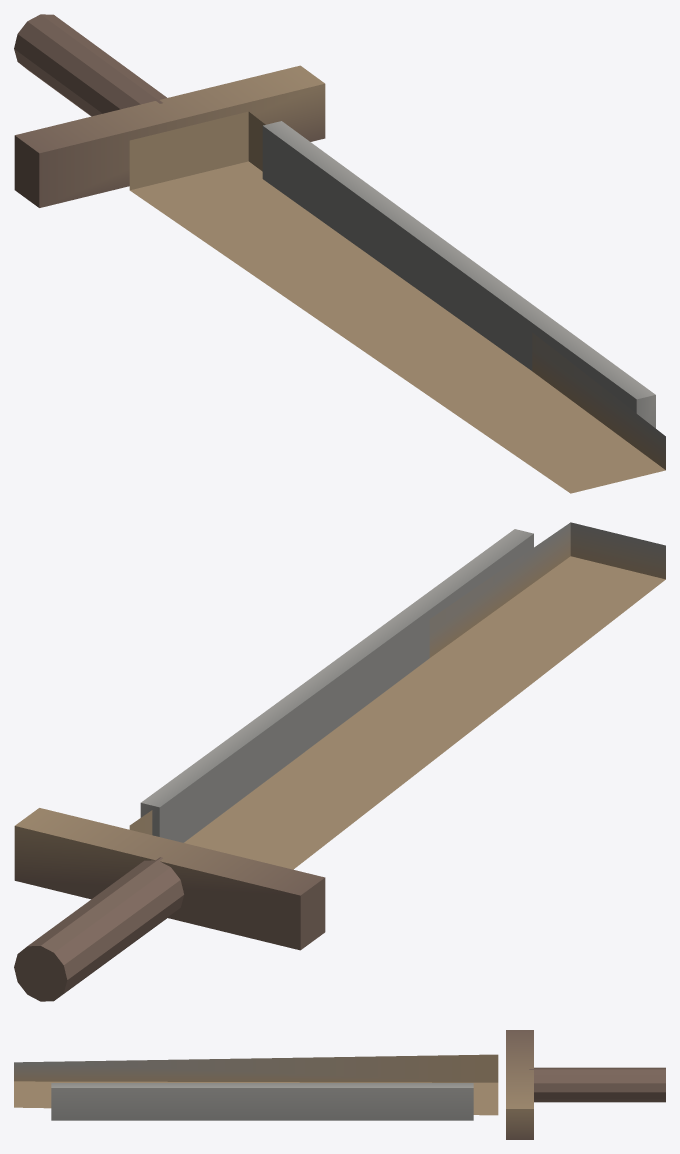
File: imported_weapon_smoke.glb
3 views of the same model, one above another, from view 1: azimuth 30°, elevation 25°; view 2: azimuth 150°, elevation 25°; view 3: azimuth 270°, elevation 25° (orthographic). The views are drawn at different scales.
Parts seen in each view (by area): view 1: world; view 2: world; view 3: world.
Boxes of the visible parts, <box> form: world: <box>14,14,665,493</box>; world: <box>14,522,665,1001</box>; world: <box>14,1030,665,1139</box>.
Bounding box in the file's own units: 0.3 × 0.058 × 1.05.
